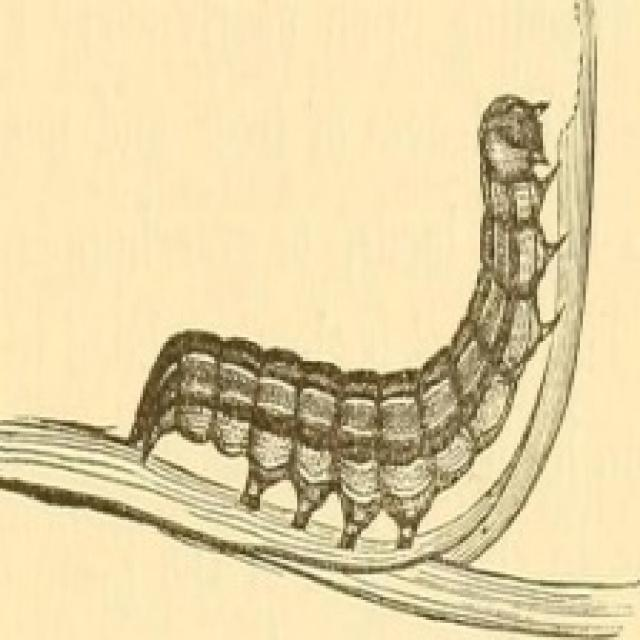Plaga: (113, 81, 570, 561)
